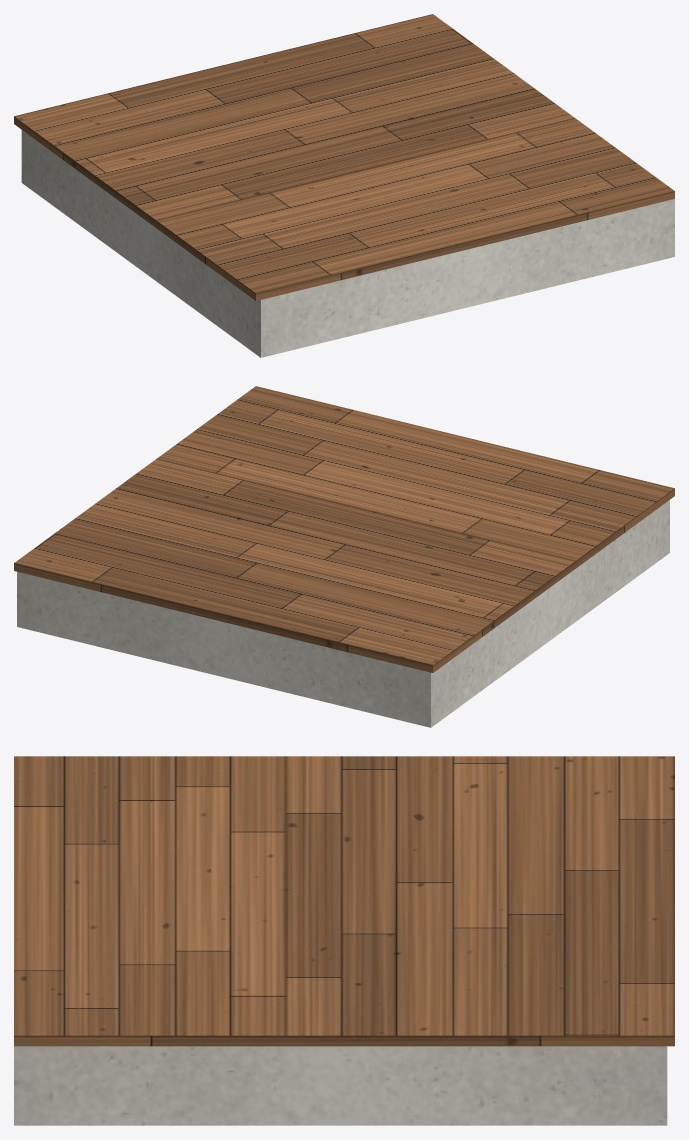
Rendered from floor_floor_u_e0101.glb.
The picture shows the model from 3 angles, top to bottom: view 1: azimuth 30°, elevation 25°; view 2: azimuth 150°, elevation 25°; view 3: azimuth 270°, elevation 25°; orthographic projection. The views are drawn at different scales.
Parts seen in each view (by area): view 1: floor_floor_u_e0101_floor, floor_floor_u_e0101_plaster; view 2: floor_floor_u_e0101_floor, floor_floor_u_e0101_plaster; view 3: floor_floor_u_e0101_floor, floor_floor_u_e0101_plaster.
Boxes of the visible parts, x1,y1,x2,y2 form: floor_floor_u_e0101_floor: (14, 14, 674, 300); floor_floor_u_e0101_plaster: (21, 130, 674, 357); floor_floor_u_e0101_floor: (14, 386, 674, 672); floor_floor_u_e0101_plaster: (17, 500, 669, 727); floor_floor_u_e0101_floor: (14, 756, 674, 1046); floor_floor_u_e0101_plaster: (14, 1046, 667, 1125).
Size of the model in its own units: 1.7 by 0.255 by 1.7.
Materials: 2 (2 with a texture image).
